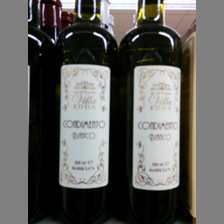vinegar: (48, 1, 118, 224), (117, 1, 185, 224)
